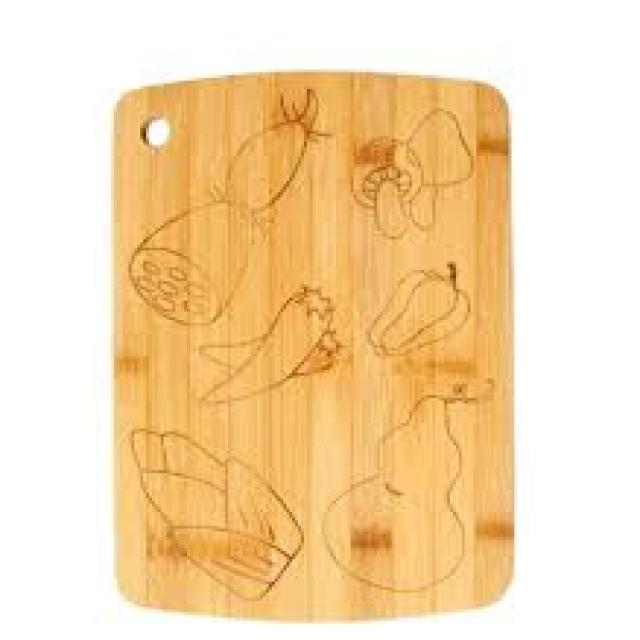Talenan: (107, 57, 519, 628)
